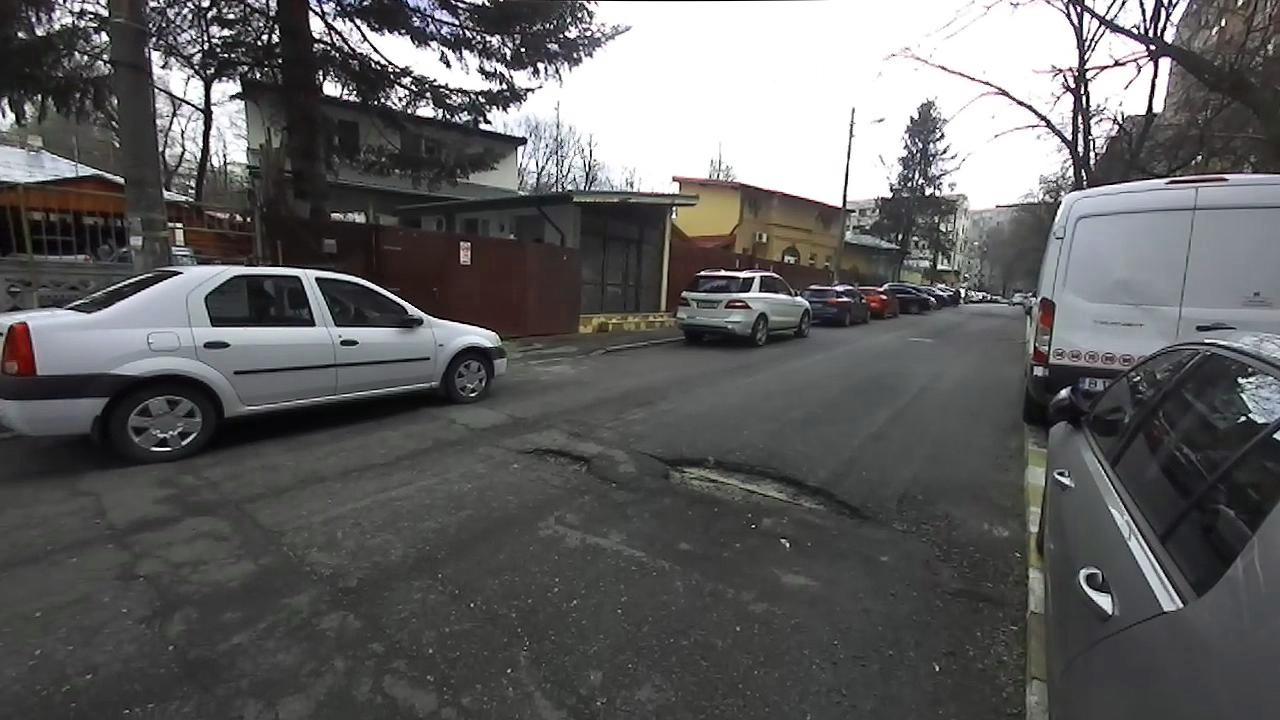pothole: (638, 446, 886, 531), (515, 443, 623, 486)
